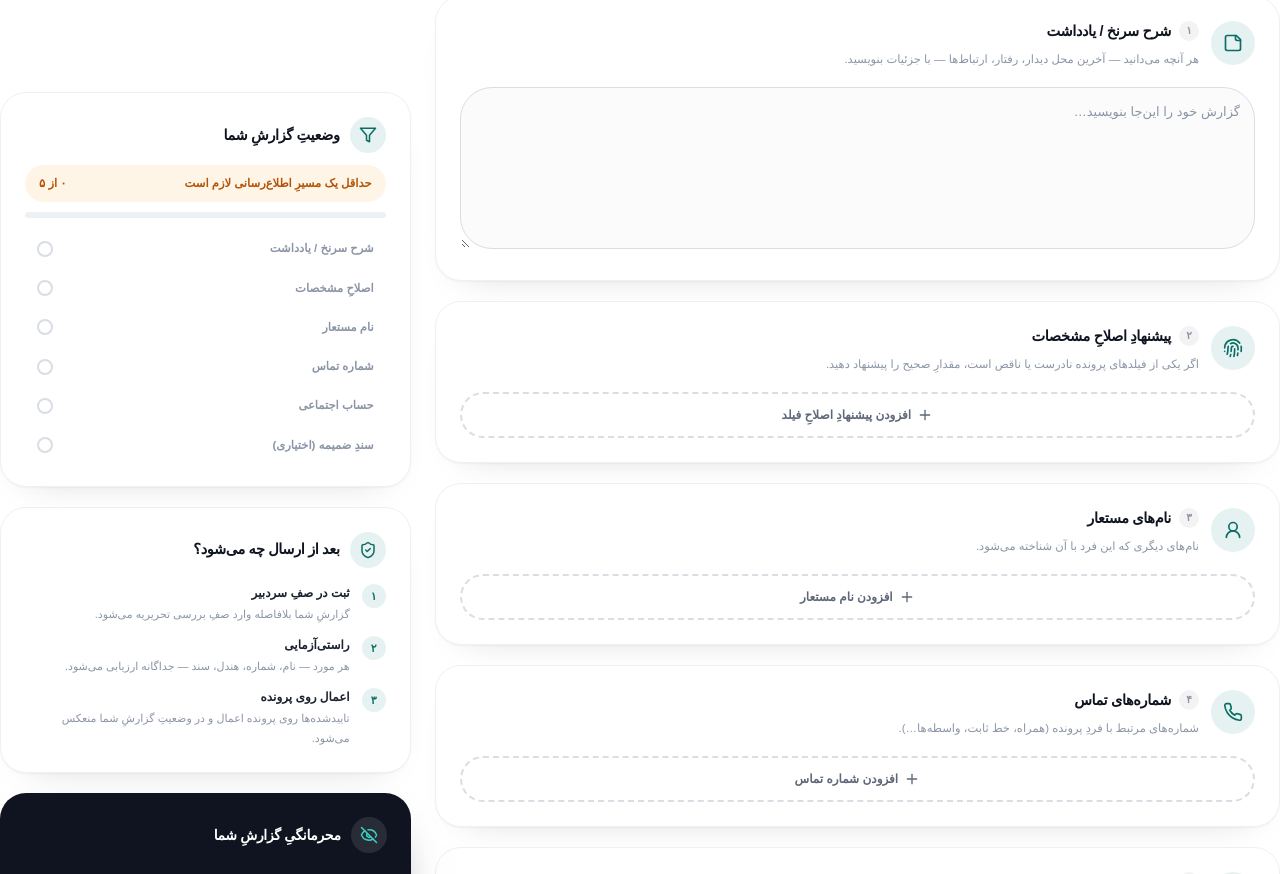
ReportPanel — قانونِ «حداقل یک مسیر» › با یک «پیشنهادِ اصلاحِ فیلدِ پرشده» هم ارسال فعال می‌شود
Click the button "افزودن پیشنهادِ اصلاحِ فیلد" at (857, 415), box [460,392,1255,438]
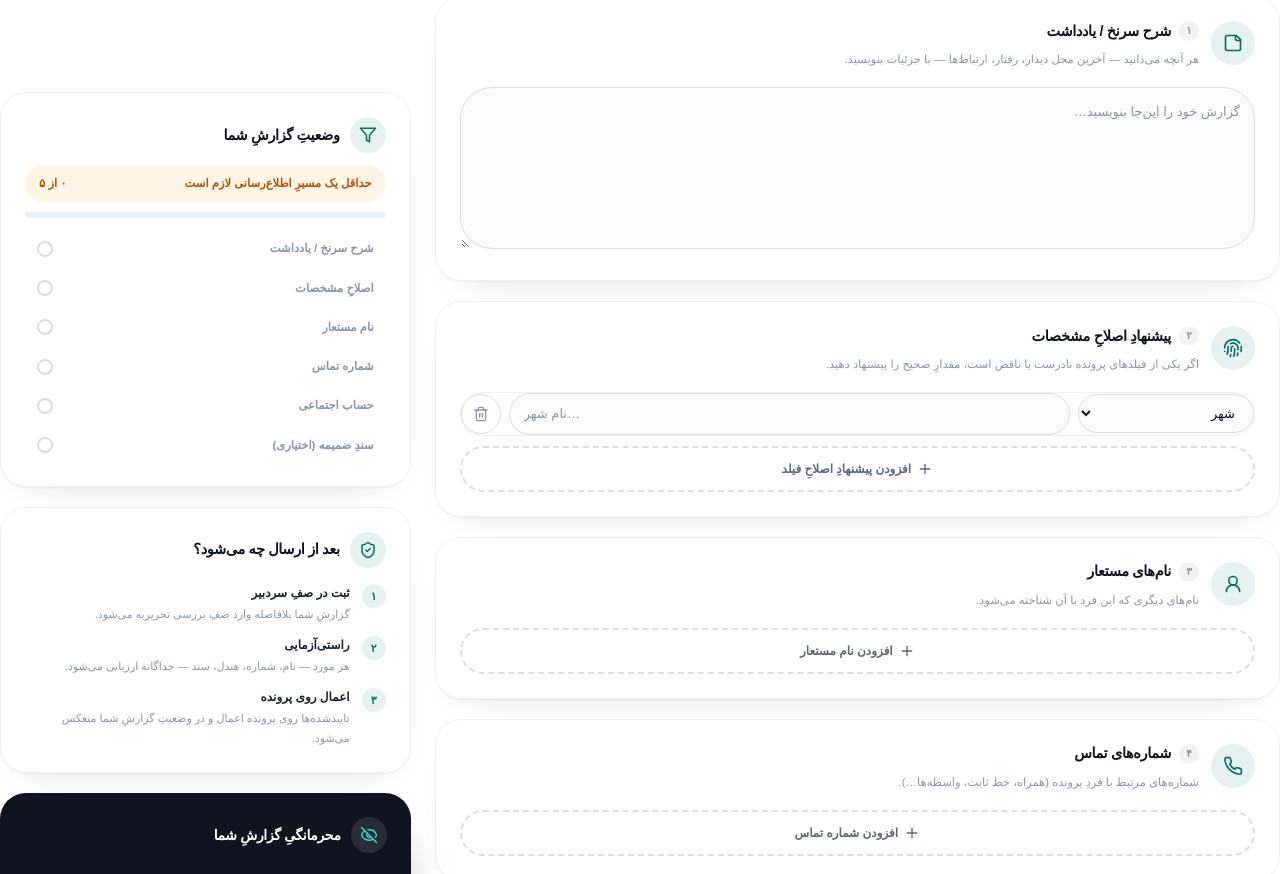
Type "تهران" into the field named "مقدار پیشنهادی" at (789, 414), box [509,393,1070,434]
(page scrolled)
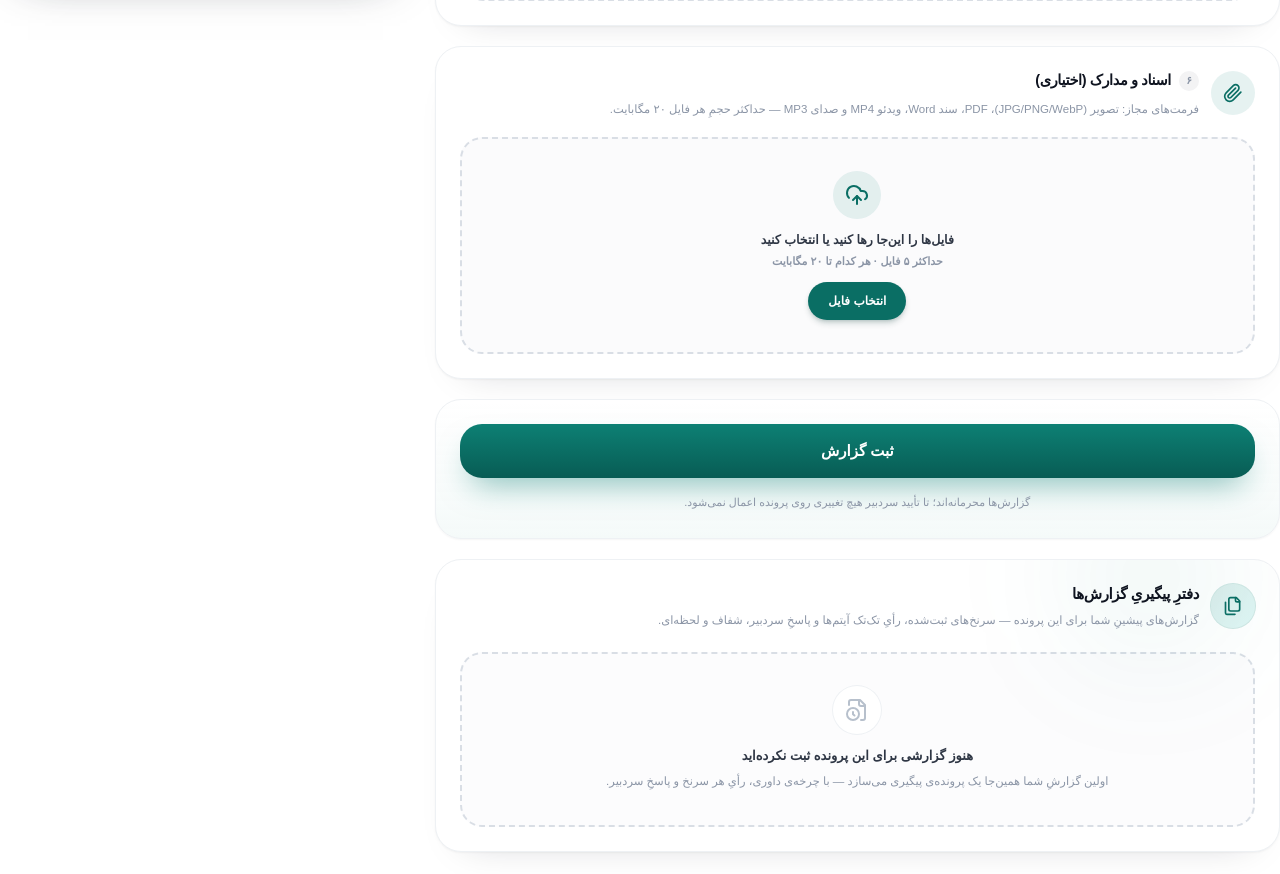
Result: the button "ثبت گزارش" is enabled at [460,424,1255,478]
